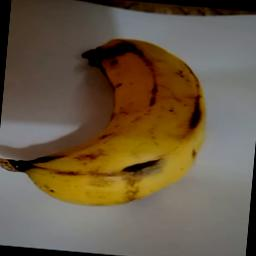Banana Unripe: (0, 26, 215, 217)
